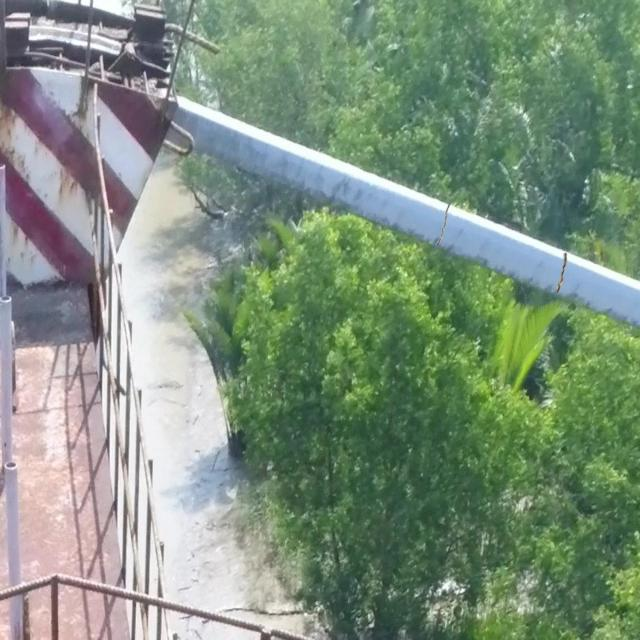crack: (434, 202, 452, 247), (556, 252, 568, 294)
